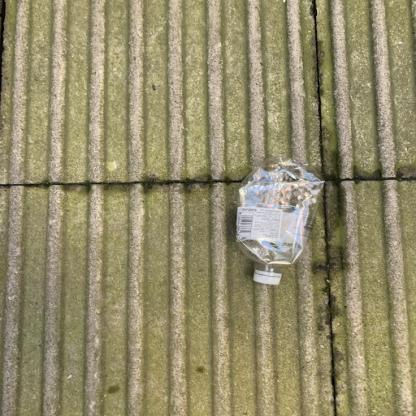trash: (230, 156, 330, 296)
